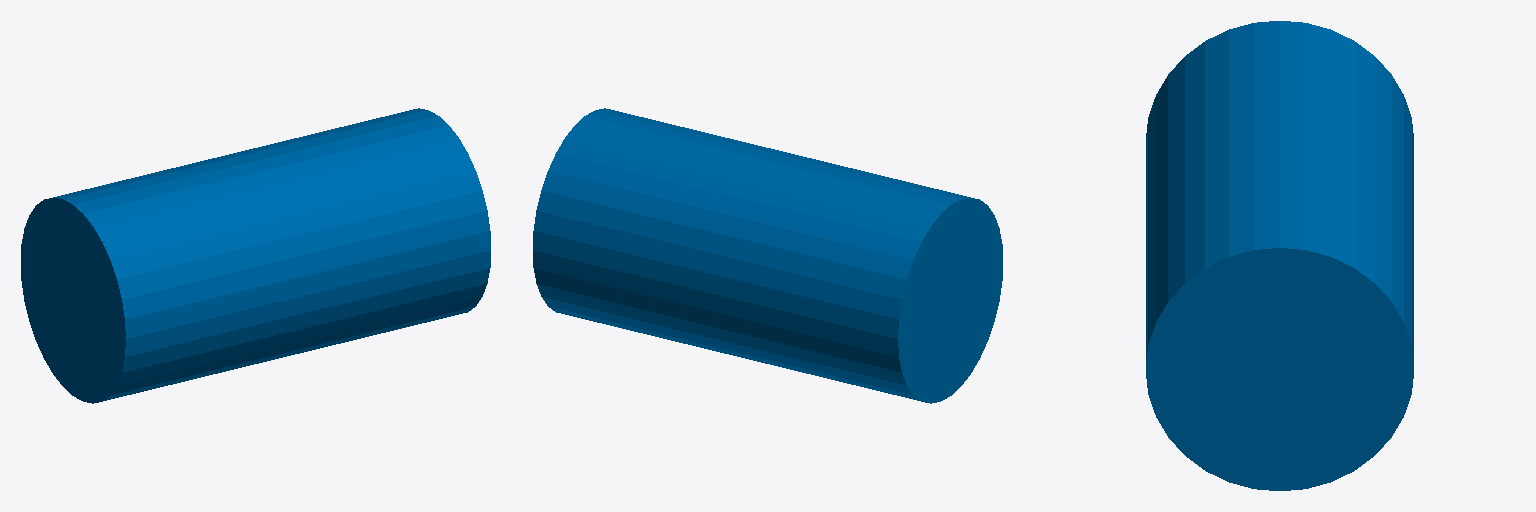
The robot description file, URDF, robot "visual":
<?xml version="1.0"?>
<robot name="visual">

<material name="blue">
    <color rgba="0 0 0.8 1"/>
  </material>

  <link name="base_link">
  </link>

  <!--row-->
  <!--the origin of movement-->
  <joint name="row_joint" type="continuous">
	<axis xyz="1 0 0"/>
	<!--parent = joint fix on; child = move along joint-->
    <parent link="base_link"/>
    <child link="row_link"/>
	<!--the original position, origin to parent link-->
    <origin rpy="0 0 0" xyz="0.19 0 0.2"/>
  </joint>

  <link name="row_link">
  </link>

  <!--pitch-->
  <joint name="pitch_joint" type="continuous">
	<axis xyz="0 1 0"/>
    <parent link="row_link"/>
    <child link="pitch_link"/>
  </joint>

  <link name="pitch_link">
  </link>

  <!--yaw-->
  <joint name="yaw_joint" type="continuous">
	<axis xyz="0 0 1"/>
    <parent link="pitch_link"/>
    <child link="yaw_link"/>
  </joint>

  <link name="yaw_link">
  </link>

  <!--object joint-->
  <joint name="gripper_pole_joint" type="fixed">
    <parent link="yaw_link"/>
    <child link="gripper_pole"/>
  </joint>

  <!--the object-->
  <link name="gripper_pole">
    <visual>
      <geometry>
        <cylinder length="0.2" radius="0.05"/>
      </geometry>
	  <!--the original position, origin to the joint-->
      <origin rpy="0 1.57075 0 " xyz="0 0 0"/>
    </visual>
  </link>
</robot>

--- Facts derived from the render (not from the file) ---
3 views of the same robot in one strip: view 1: azimuth 30°, elevation 25°; view 2: azimuth 150°, elevation 25°; view 3: azimuth 270°, elevation 25° (orthographic).
Model visual with 5 links and 4 joints (3 continuous, 1 fixed), rooted at base_link, posed all joints at 0.
Links seen in each view (by area): view 1: gripper_pole; view 2: gripper_pole; view 3: gripper_pole.
Link boxes in pixels (<box>): gripper_pole: <box>21,108,490,403</box>; gripper_pole: <box>533,108,1002,403</box>; gripper_pole: <box>1146,21,1413,490</box>.
Bounding box of the posed robot: 0.2 × 0.1 × 0.1 m (x, y, z).
Geometry: primitives only (box / cylinder / sphere), no mesh files.